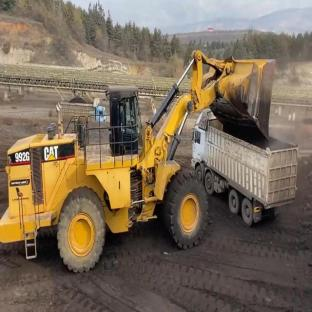Vehicle: (191, 111, 312, 225)
